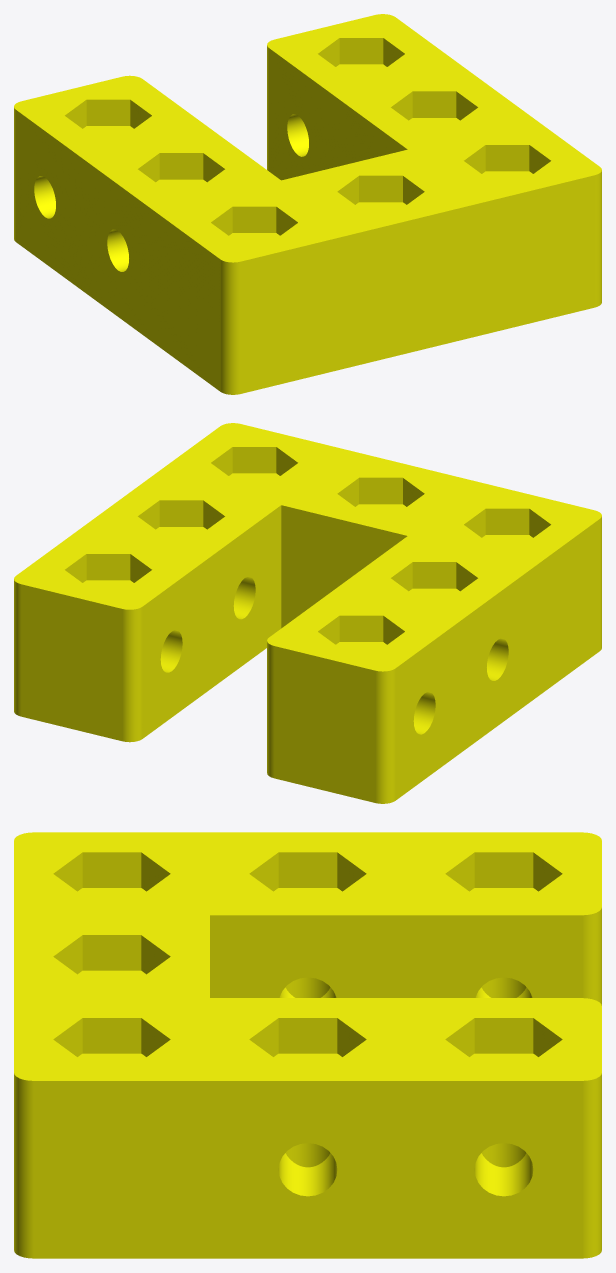
File: U_yellow.glb
3 renders of one model, top to bottom at view 1: azimuth 30°, elevation 25°; view 2: azimuth 150°, elevation 25°; view 3: azimuth 270°, elevation 25°, orthographic. The views are drawn at different scales.
Visible parts, largest first — view 1: U; view 2: U; view 3: U.
Boxes of the visible parts, x1,y1,x2,y2 form: U: (14, 14, 601, 394); U: (14, 423, 601, 803); U: (14, 832, 601, 1258).
Size of the model in its own units: 0.03 by 0.01 by 0.03.
